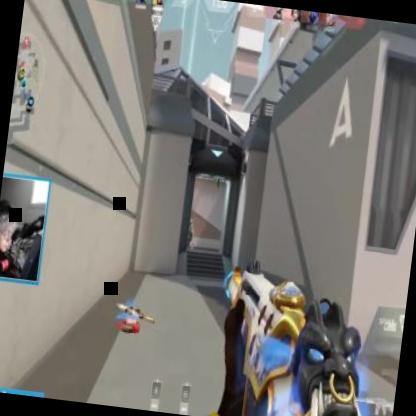enemy: (183, 219, 194, 245)
enemy_head: (190, 218, 193, 224)
